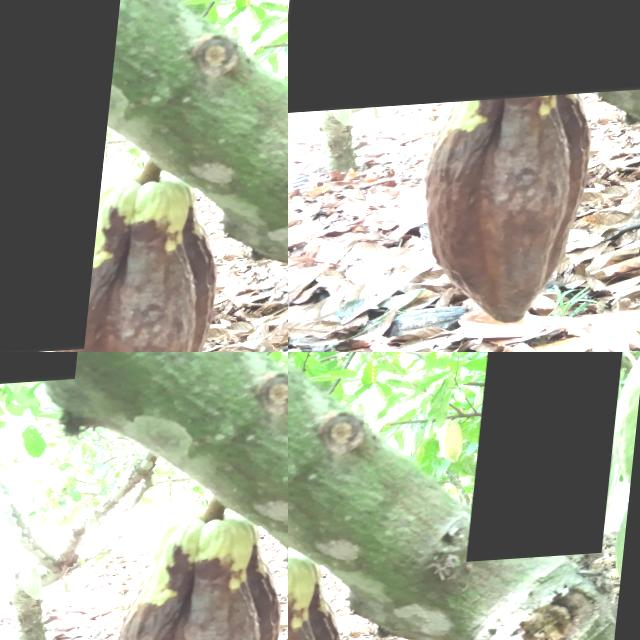Fitoftora: (0, 484, 288, 640)
Monilia: (0, 0, 125, 352), (288, 0, 640, 114)
Sana: (472, 352, 625, 568), (152, 402, 282, 539), (438, 424, 477, 469)
